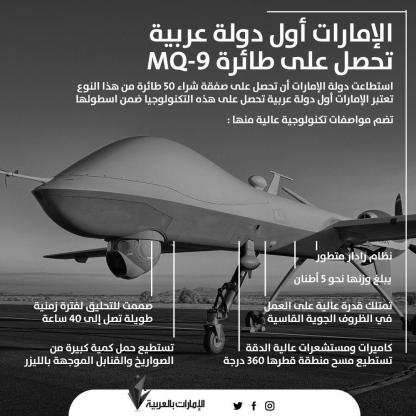MQ9: (2, 137, 416, 356)
